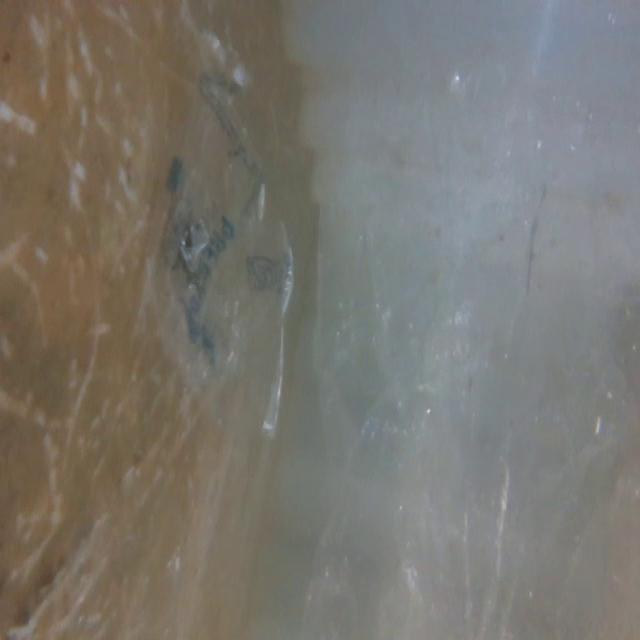plastic bags: (311, 0, 608, 638), (152, 28, 299, 457)
